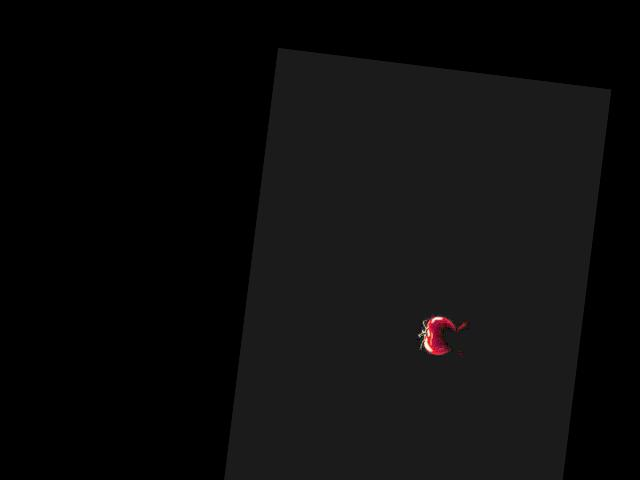tomato: (421, 315, 456, 356)
